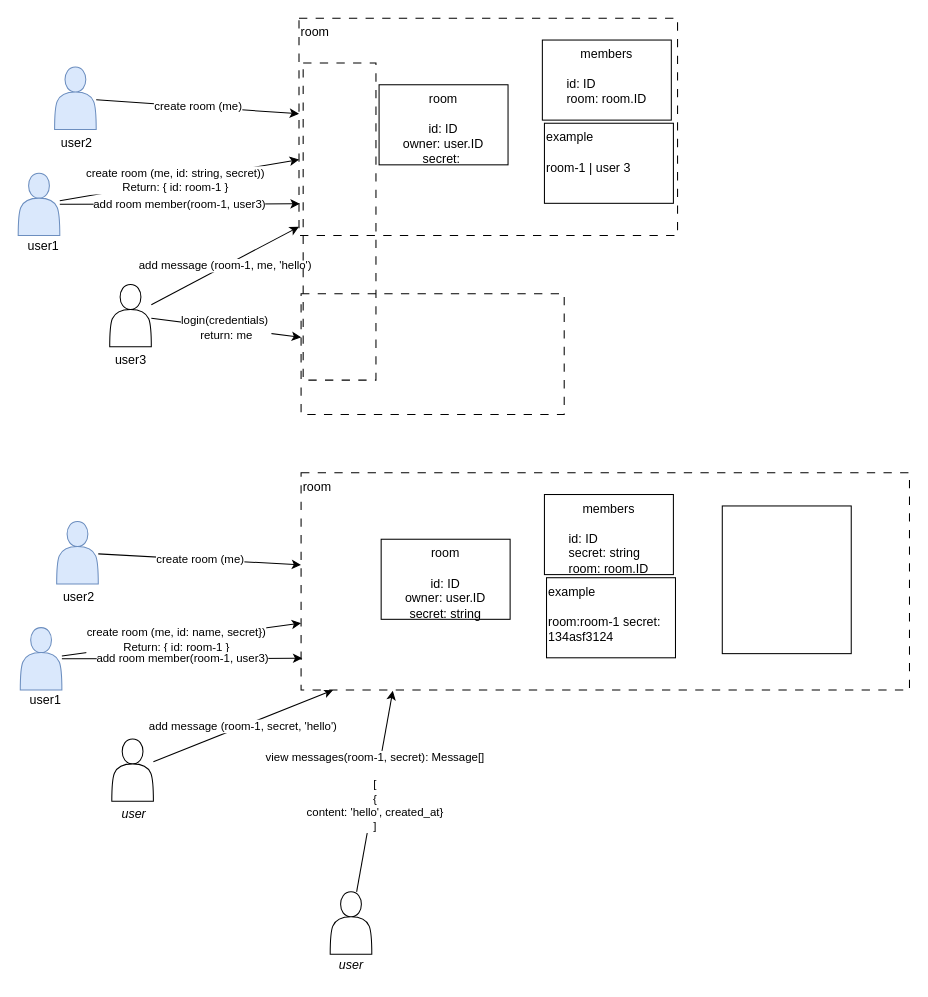
The diagram is 928 pixels wide and 997 high, and some of its shapes have lost their labels. The shapes that lost their labels are listed below. From the top down, each one's box as (x1, y1, x2, y2) in pixels, then its label:
(302, 62, 376, 380): identity
(300, 293, 564, 414): user id: ID
(721, 505, 851, 654): message content: string author: member.ID room: roomID created_at: timestamp
